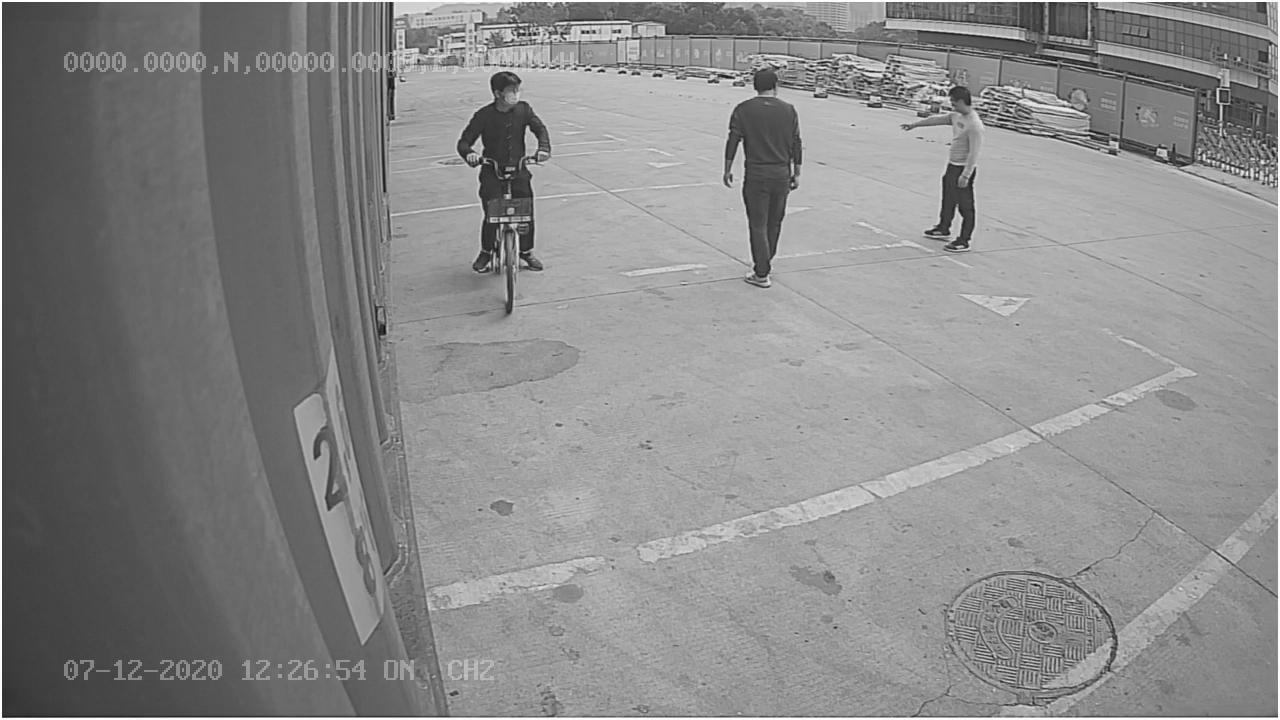person: (718, 65, 809, 289)
